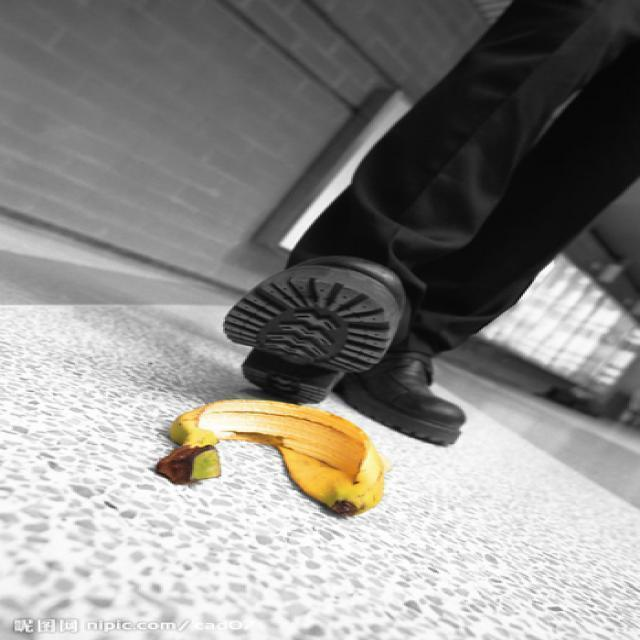banana-peel: (161, 397, 386, 516)
